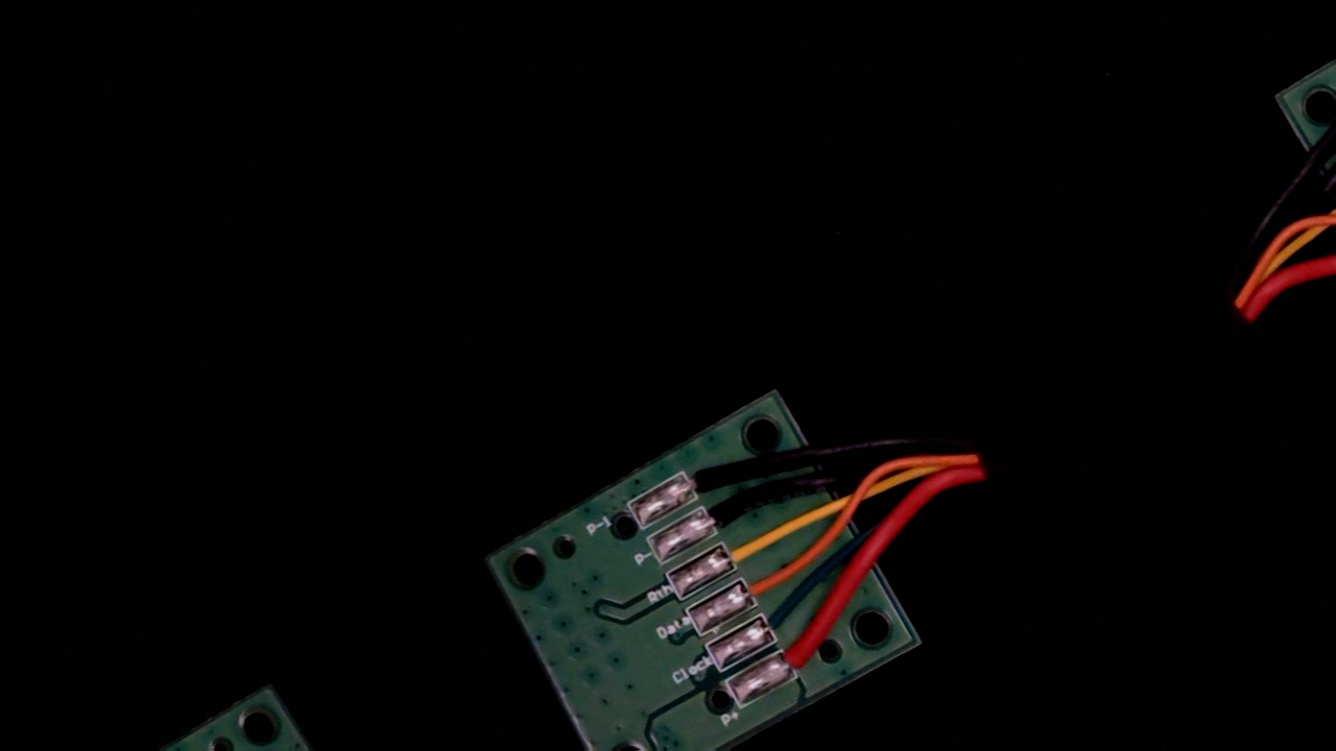Black: (684, 482, 762, 547)
Black1: (665, 444, 746, 511)
Green: (743, 587, 820, 651)
Orange: (725, 553, 804, 618)
Red: (764, 623, 841, 687)
Yellow: (705, 522, 777, 580)
